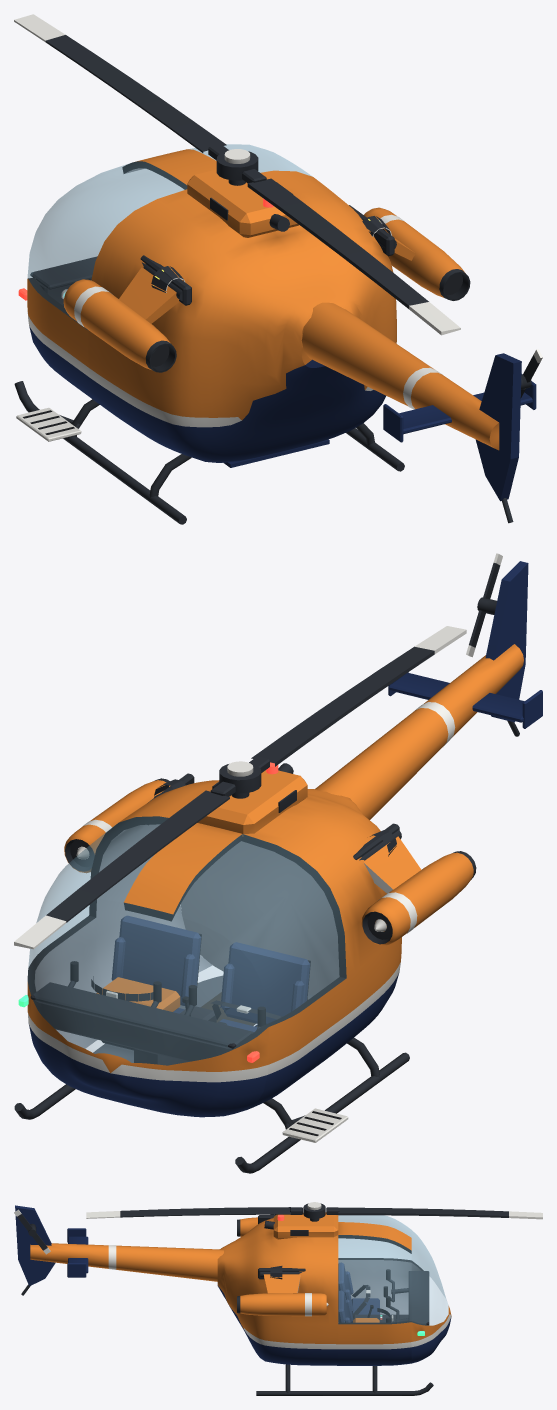
Rendered from helicopter_boarding.glb.
3 views of the same model, one above another, from view 1: azimuth 30°, elevation 25°; view 2: azimuth 150°, elevation 25°; view 3: azimuth 270°, elevation 25° (orthographic). The views are drawn at different scales.
Parts seen in each view (by area): view 1: Body, Door_L, MainRotor, Windows, JetPod_L, FrameAndSkids, JetPod_R, Interior, Step_L, Door_R; view 2: Body, Windows, Interior, Door_L, MainRotor, Door_R, JetPod_L, Seat_L, Seat_R, FrameAndSkids, JetPod_R, Step_L (+2 smaller); view 3: Body, Door_R, Door_L, MainRotor, JetPod_R, Windows, FrameAndSkids, Interior, Seat_L, Seat_R, TailRotor, JetPod_L (+1 smaller).
Part boxes in pixels (x1,y1,x2,y2): Body: [27, 149, 536, 523]; Door_L: [28, 161, 186, 408]; MainRotor: [14, 14, 460, 335]; Windows: [27, 152, 212, 278]; JetPod_L: [63, 262, 182, 372]; FrameAndSkids: [14, 205, 404, 524]; JetPod_R: [364, 207, 470, 300]; Interior: [30, 256, 97, 305]; Step_L: [16, 407, 81, 441]; Door_R: [188, 144, 311, 176]; Body: [27, 561, 542, 1117]; Windows: [28, 899, 268, 1065]; Interior: [30, 841, 339, 1065]; Door_L: [174, 834, 346, 1109]; MainRotor: [14, 626, 466, 949]; Door_R: [28, 816, 168, 1040]; JetPod_L: [359, 830, 476, 945]; Seat_L: [219, 942, 310, 1031]; Seat_R: [101, 915, 201, 1050]; FrameAndSkids: [14, 773, 409, 1173]; JetPod_R: [64, 778, 171, 873]; Step_L: [282, 1108, 348, 1142]; Body: [15, 1205, 451, 1365]; Door_R: [338, 1235, 411, 1364]; Door_L: [338, 1215, 411, 1310]; MainRotor: [86, 1202, 542, 1221]; JetPod_R: [237, 1272, 328, 1316]; Windows: [411, 1230, 448, 1325]; FrameAndSkids: [256, 1215, 433, 1395]; Interior: [338, 1271, 429, 1324]; Seat_L: [338, 1262, 379, 1322]; Seat_R: [338, 1290, 353, 1322]; TailRotor: [14, 1209, 50, 1254]; JetPod_L: [237, 1217, 263, 1236].
Bounding box in the file's own units: 4.75 × 4.19 × 12.28.
